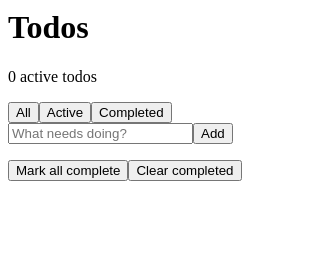
TodoApp › marks a todo as complete
This screenshot has width=320, height=270.
Type "Buy milk" into the field named "New todo" at (100, 133), box [8,123,193,144]
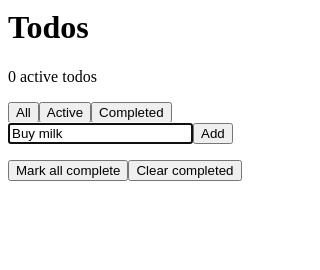
Click the button "Add" at (213, 133), box [193,123,233,144]
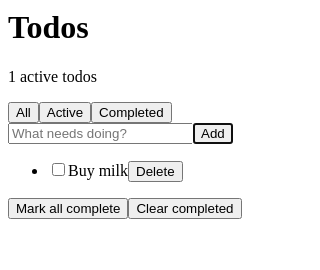
Click the checkbox at (58, 169), box [52,163,65,176]
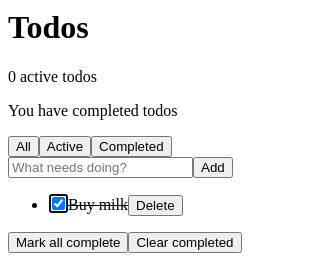
Now the checkbox is checked, box [52,197,65,210]
